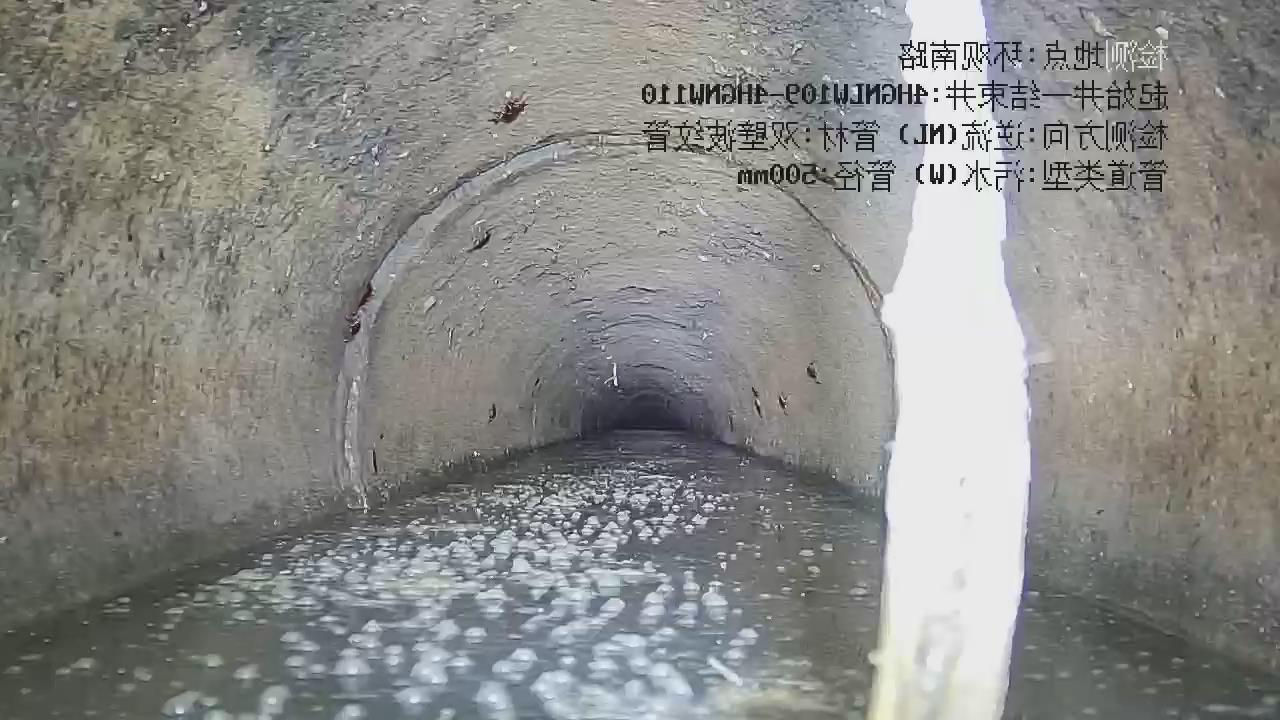CKTJ: (334, 130, 648, 507)
FZ: (1, 430, 880, 719), (1005, 591, 1280, 719)
